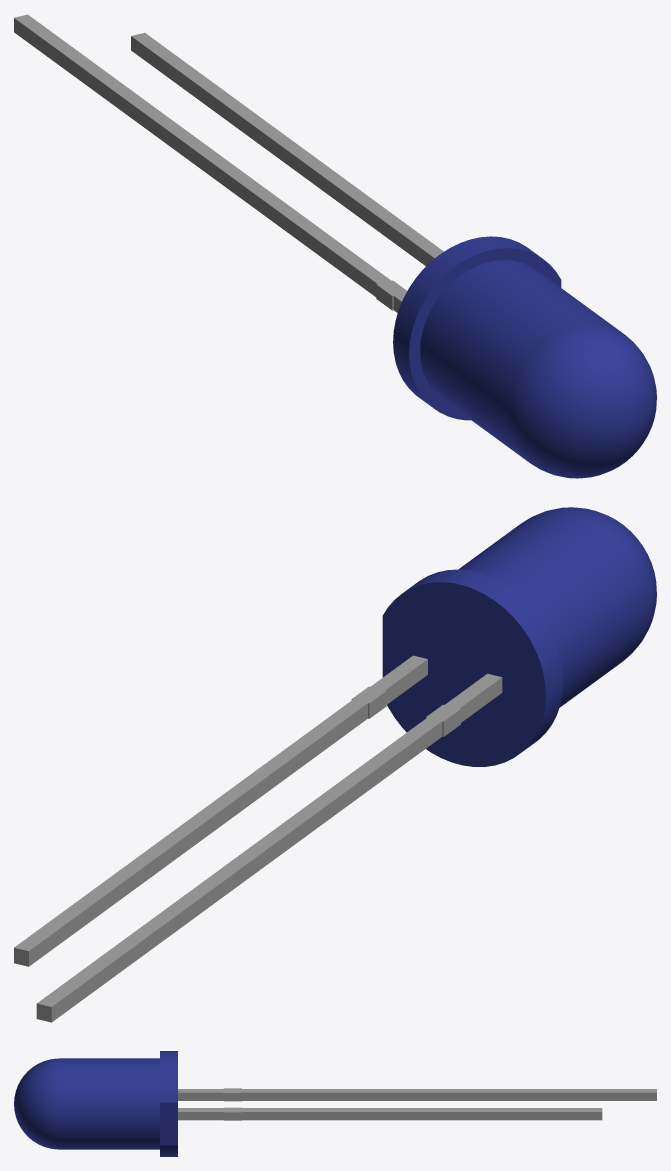
File: BLUE LED v1.obj
3 views of the same model, one above another, from view 1: azimuth 30°, elevation 25°; view 2: azimuth 150°, elevation 25°; view 3: azimuth 270°, elevation 25° (orthographic). The views are drawn at different scales.
Parts seen in each view (by area): view 1: Solid1:1, Solid1, Solid2; view 2: Solid1:1, Solid1, Solid2; view 3: Solid1:1, Solid1, Solid2.
Boxes of the visible parts, bbox=[...] form: Solid1:1: bbox=[393, 236, 656, 478]; Solid1: bbox=[14, 14, 407, 312]; Solid2: bbox=[131, 32, 443, 265]; Solid1:1: bbox=[382, 507, 656, 766]; Solid1: bbox=[36, 673, 502, 1022]; Solid2: bbox=[14, 655, 427, 966]; Solid1:1: bbox=[14, 1051, 177, 1156]; Solid1: bbox=[178, 1088, 656, 1101]; Solid2: bbox=[178, 1107, 602, 1120].
Size of the model in its own units: 5.5 by 5.8 by 35.27.
